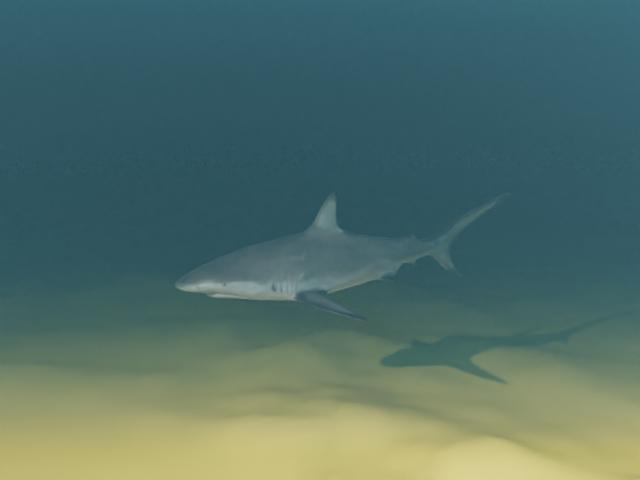Carribean Shark.001: (174, 191, 511, 321)
